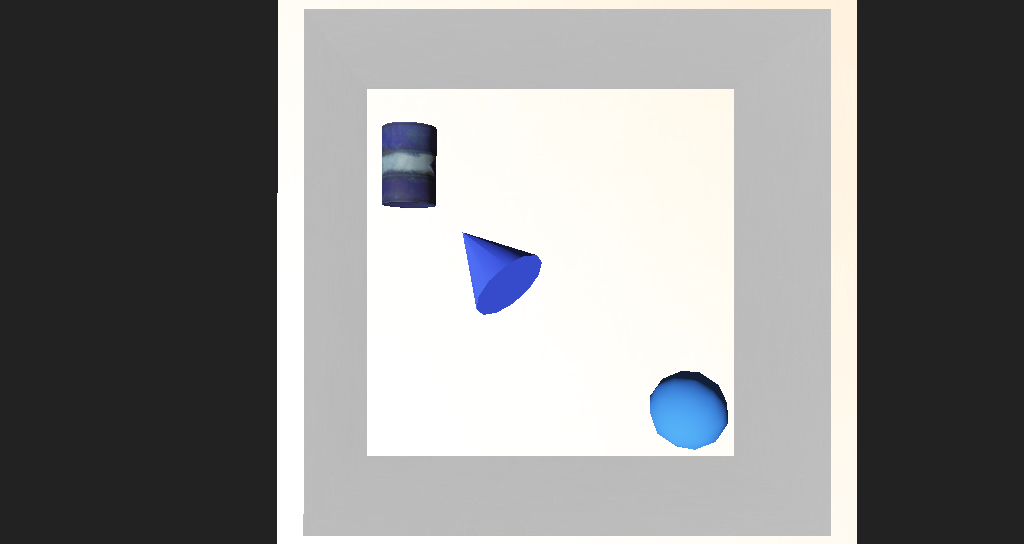cone: (367, 181, 414, 229)
cylinder: (401, 222, 502, 303)
sphere: (589, 327, 650, 370)
